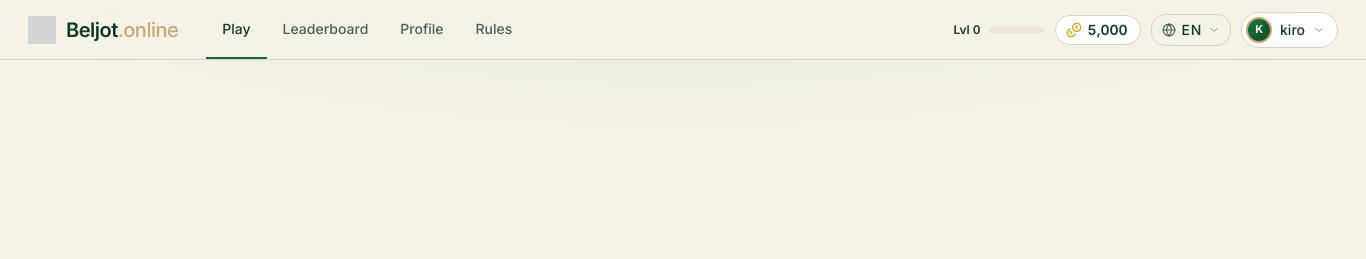
Test: TopBar support entry › offers support from the desktop user menu, above logout
Click the button with test id "nav-user" at (1290, 30), box x1=1241 y1=12 x2=1338 y2=48
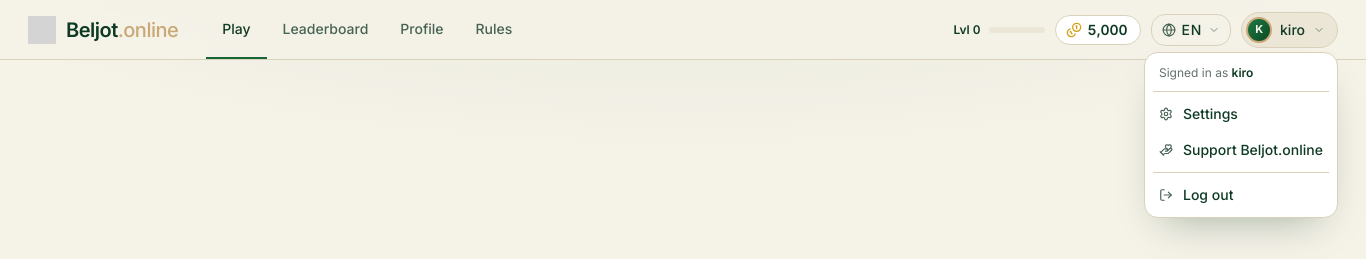
Result: the menu item with test id "nav-support" reads "Support Beljot.online" at x1=1159 y1=141 x2=1323 y2=158
